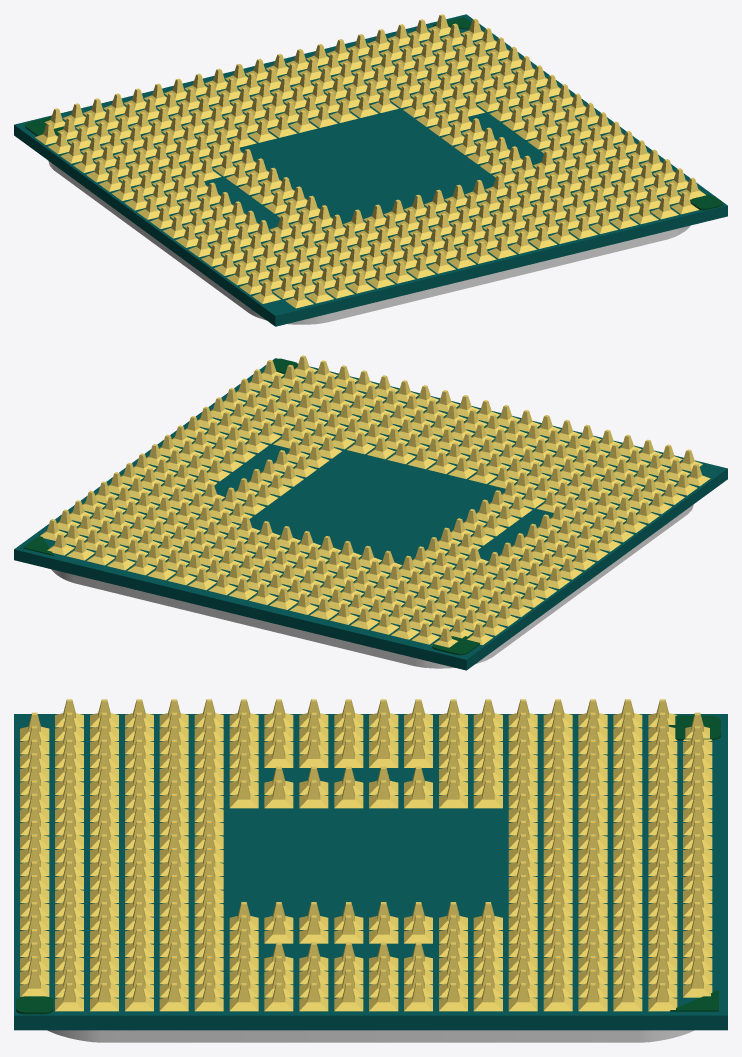
File: AR-stamprally-ロボ技展示.glb
3 renders of one model, top to bottom at view 1: azimuth 30°, elevation 25°; view 2: azimuth 150°, elevation 25°; view 3: azimuth 270°, elevation 25°, orthographic. The views are drawn at different scales.
Parts seen in each view (by area): view 1: Text.001; view 2: Text.001; view 3: Text.001.
Part boxes in pixels (x1,y1,x2,y2): Text.001: [14, 14, 727, 326]; Text.001: [14, 355, 727, 670]; Text.001: [14, 699, 727, 1042].
Size of the model in its own units: 7.9 by 0.796 by 7.91.
